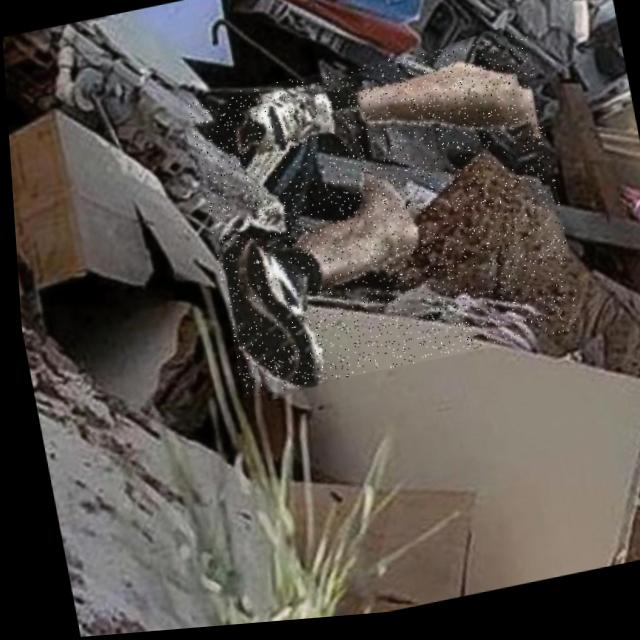Person in Rubble: (182, 37, 579, 404)
